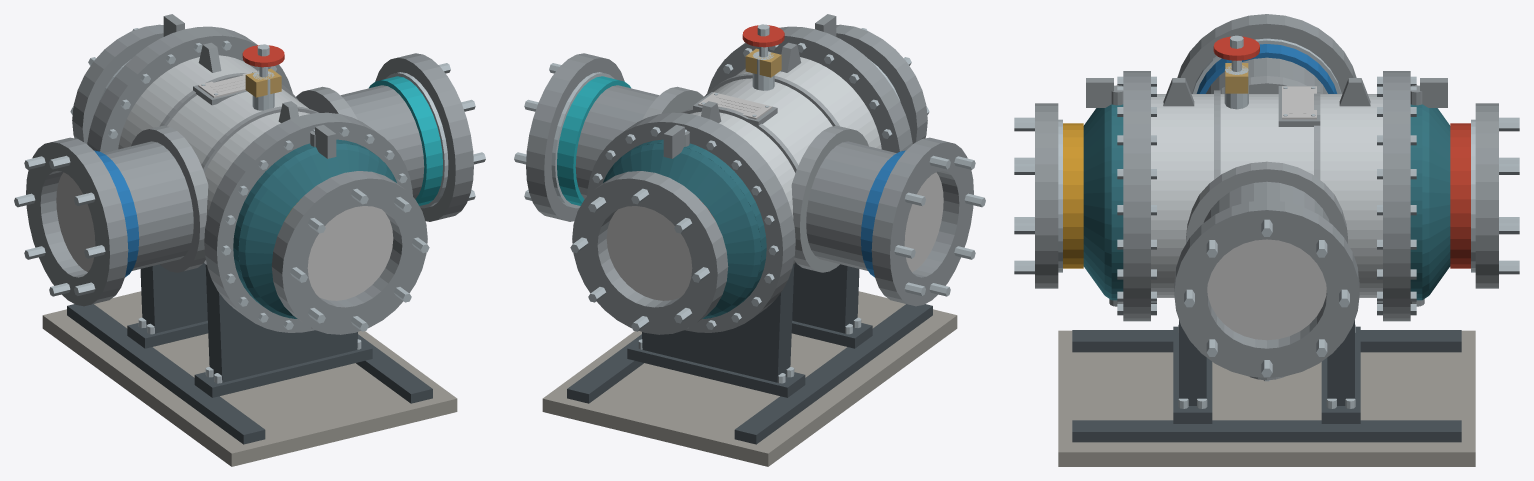
Rendered from body.obj.
3 renders of one model, left to right at view 1: azimuth 30°, elevation 25°; view 2: azimuth 150°, elevation 25°; view 3: azimuth 270°, elevation 25°, orthographic. The views are drawn at different scales.
Bounding box in the file's own units: 1.09 × 0.875 × 1.09.
